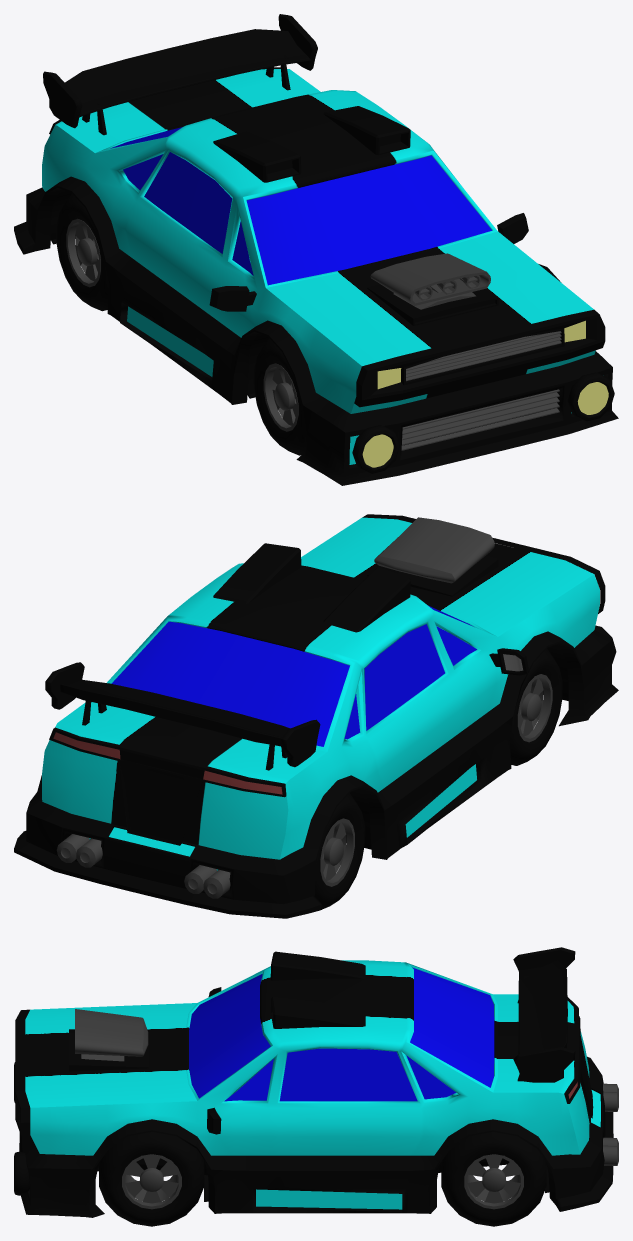
The model's file is Muscle Evolution4 Black LineBlackCyan Blue DarkGrey.glb.
The picture shows the model from 3 angles, top to bottom: view 1: azimuth 30°, elevation 25°; view 2: azimuth 150°, elevation 25°; view 3: azimuth 270°, elevation 25°; orthographic projection. The views are drawn at different scales.
Visible parts, largest first — view 1: evo4_sillPartR_f1_dupl, evo4_evo4_polySurface1_f1_dupl, evo4_frontGlass_f1_dupl, evo4_Spoiler4_f1_dupl, evo4_frontBlockGrid_f1_dupl, evo4_glasseBigR_f1_dupl, evo4_engine_f1_dupl, evo4_front_down_grid_f1_dupl, evo4_airtrap_r_f1_dupl, evo4_airtrap_l_f1_dupl, evo4_front_up_grid_f1_dupl, evo4_tire_rf_f1_dupl (+11 smaller); view 2: evo4_sillPartR_f1_dupl, evo4_evo4_polySurface1_f1_dupl, evo4_BackGlassGlass_f1_dupl, evo4_Spoiler4_f1_dupl, evo4_blockBackLights_f1_dupl, evo4_engine_f1_dupl, evo4_glasseBigR_f1_dupl, evo4_airtrap_r_f1_dupl, evo4_airtrap_l_f1_dupl, evo4_tire_rf2_f1_dupl, evo4_tire_rf_f1_dupl, evo4_rim_A_rf_f1_dupl (+9 smaller); view 3: evo4_sillPartR_f1_dupl, evo4_evo4_polySurface1_f1_dupl, evo4_BackGlassGlass_f1_dupl, evo4_Spoiler4_f1_dupl, evo4_glasseBigL_f1_dupl, evo4_frontGlass_f1_dupl, evo4_tire_lf_f1_dupl, evo4_tire_lb_f1_dupl, evo4_engine_f1_dupl, evo4_rim_A_lf_f1_dupl, evo4_rim_A_lb_f1_dupl, evo4_airtrap_l_f1_dupl (+9 smaller).
Boxes of the visible parts, x1,y1,x2,y2 form: evo4_sillPartR_f1_dupl: (42, 69, 595, 464); evo4_evo4_polySurface1_f1_dupl: (14, 176, 618, 485); evo4_frontGlass_f1_dupl: (246, 155, 491, 285); evo4_Spoiler4_f1_dupl: (43, 14, 317, 135); evo4_frontBlockGrid_f1_dupl: (354, 309, 605, 407); evo4_glasseBigR_f1_dupl: (144, 152, 232, 253); evo4_engine_f1_dupl: (370, 253, 490, 309); evo4_front_down_grid_f1_dupl: (401, 389, 559, 450); evo4_airtrap_r_f1_dupl: (213, 131, 301, 182); evo4_airtrap_l_f1_dupl: (323, 106, 410, 155); evo4_front_up_grid_f1_dupl: (406, 331, 561, 381); evo4_tire_rf_f1_dupl: (56, 194, 109, 311); evo4_sillPartR_f1_dupl: (42, 517, 599, 870); evo4_evo4_polySurface1_f1_dupl: (14, 630, 618, 918); evo4_BackGlassGlass_f1_dupl: (111, 621, 349, 746); evo4_Spoiler4_f1_dupl: (45, 662, 320, 770); evo4_blockBackLights_f1_dupl: (49, 727, 286, 845); evo4_engine_f1_dupl: (374, 517, 494, 583); evo4_glasseBigR_f1_dupl: (364, 624, 444, 730); evo4_airtrap_r_f1_dupl: (323, 567, 410, 632); evo4_airtrap_l_f1_dupl: (213, 543, 301, 603); evo4_tire_rf2_f1_dupl: (509, 648, 562, 765); evo4_tire_rf_f1_dupl: (315, 793, 365, 909); evo4_rim_A_rf_f1_dupl: (517, 674, 552, 742); evo4_sillPartR_f1_dupl: (25, 960, 600, 1209); evo4_evo4_polySurface1_f1_dupl: (19, 1056, 613, 1217); evo4_BackGlassGlass_f1_dupl: (410, 967, 494, 1087); evo4_Spoiler4_f1_dupl: (513, 947, 575, 1082); evo4_glasseBigL_f1_dupl: (279, 1048, 417, 1101); evo4_frontGlass_f1_dupl: (189, 974, 270, 1098); evo4_tire_lf_f1_dupl: (99, 1132, 204, 1226); evo4_tire_lb_f1_dupl: (441, 1132, 546, 1226); evo4_engine_f1_dupl: (75, 1009, 148, 1061); evo4_rim_A_lf_f1_dupl: (122, 1154, 181, 1209); evo4_rim_A_lb_f1_dupl: (464, 1154, 523, 1209); evo4_airtrap_l_f1_dupl: (270, 997, 365, 1028).
Size of the model in its own units: 177 by 120 by 337.
8 materials, 1 textured.
